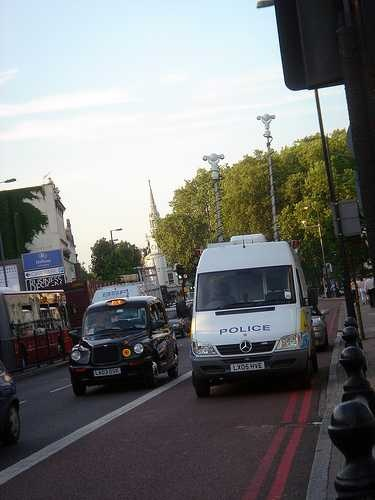Police Van: (161, 230, 318, 377)
